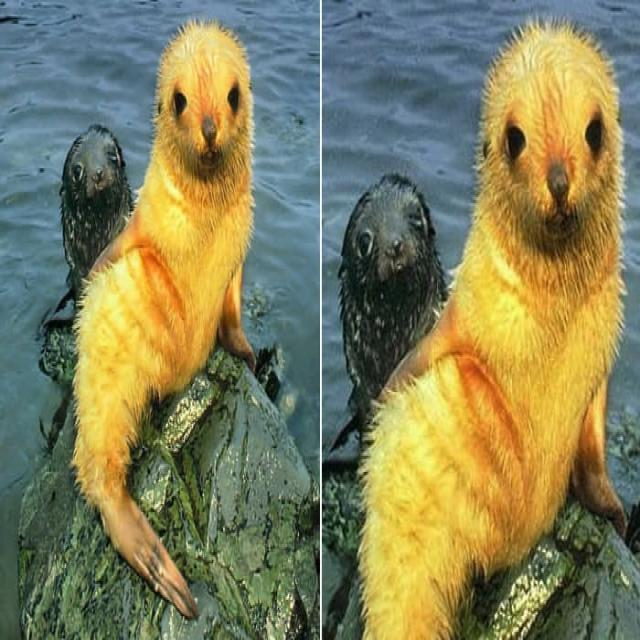WaterDog: (101, 22, 270, 539), (58, 123, 137, 272)
